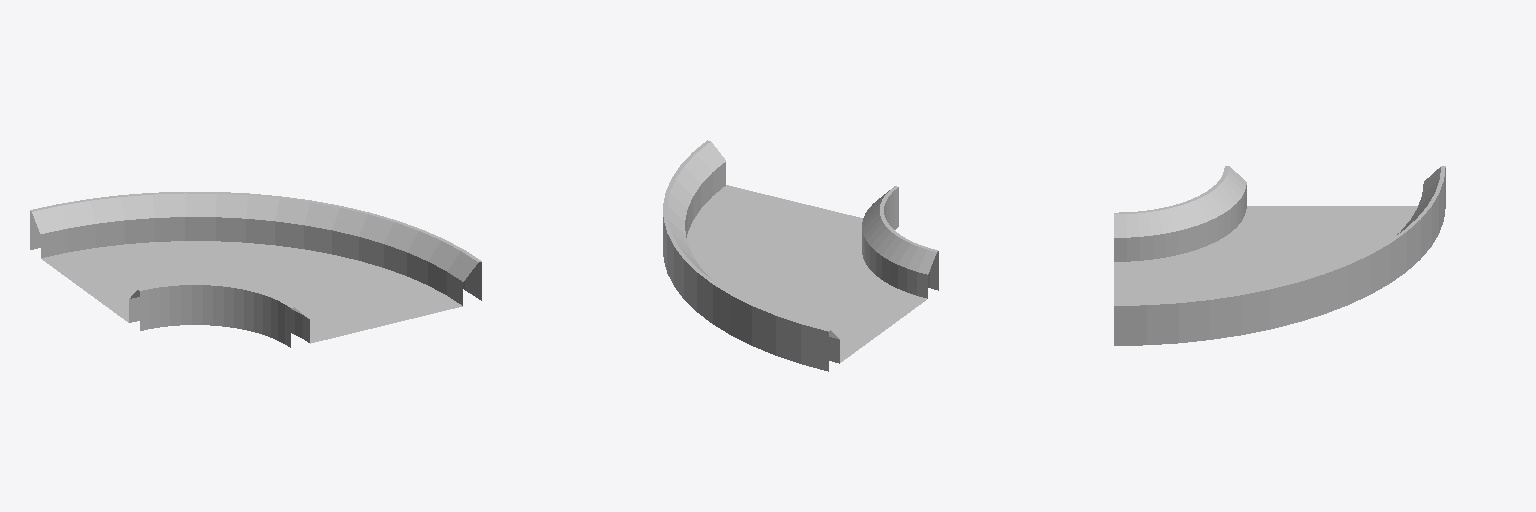
The model's file is trackpiece7.obj.
The picture shows the model from 3 angles: view 1: azimuth 30°, elevation 25°; view 2: azimuth 150°, elevation 25°; view 3: azimuth 270°, elevation 25°; orthographic projection.
Parts seen in each view (by area): view 1: Plane.003_Plane.005; view 2: Plane.003_Plane.005; view 3: Plane.003_Plane.005.
Boxes of the visible parts, x1=… form: Plane.003_Plane.005: x1=30, y1=192, x2=481, y2=347; Plane.003_Plane.005: x1=663, y1=140, x2=938, y2=371; Plane.003_Plane.005: x1=1114, y1=166, x2=1445, y2=345.
Bounding box in the file's own units: 1.5 × 0.2 × 1.5.